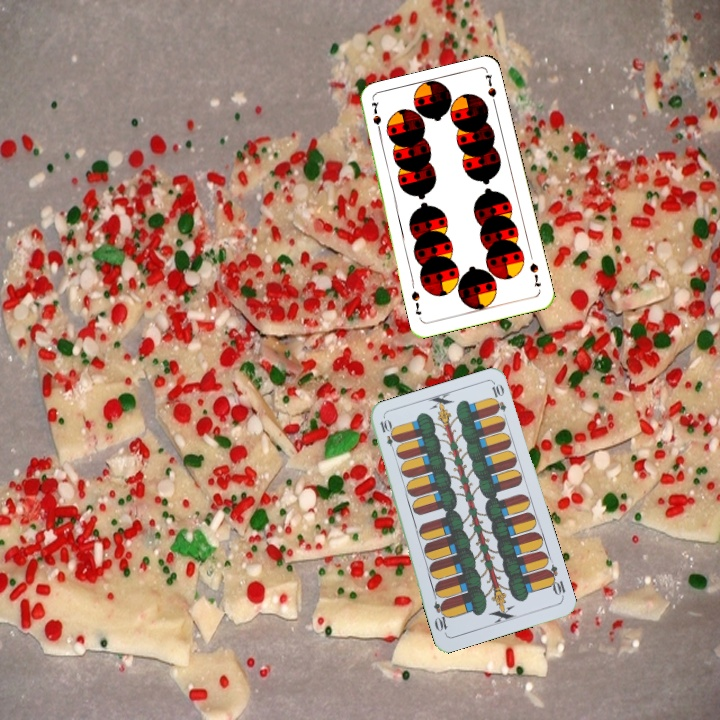E10: (541, 561, 568, 601), (376, 415, 399, 455)
S7: (367, 98, 384, 138), (526, 259, 544, 289)
